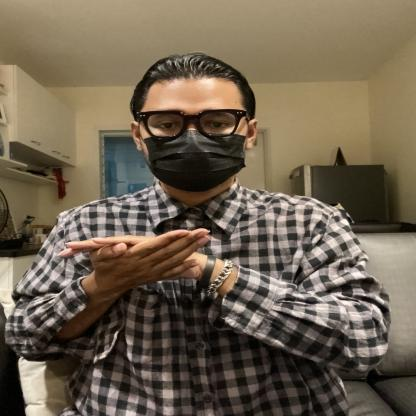Love: (40, 190, 273, 308)
